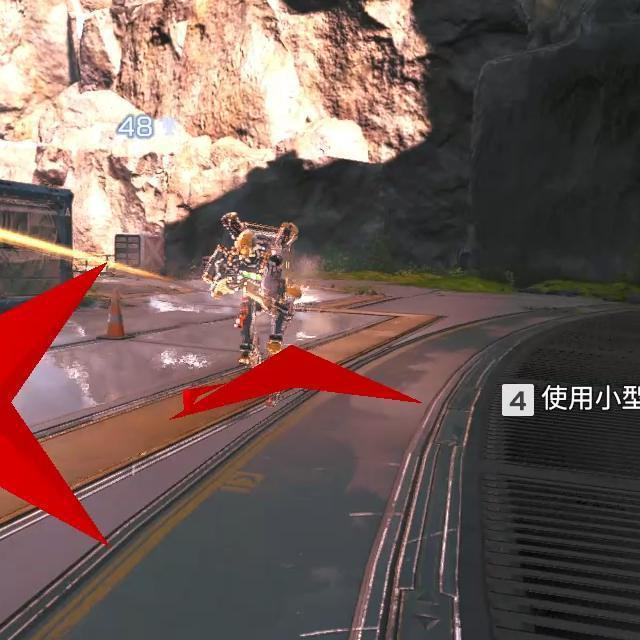avatar: (202, 210, 302, 371)
